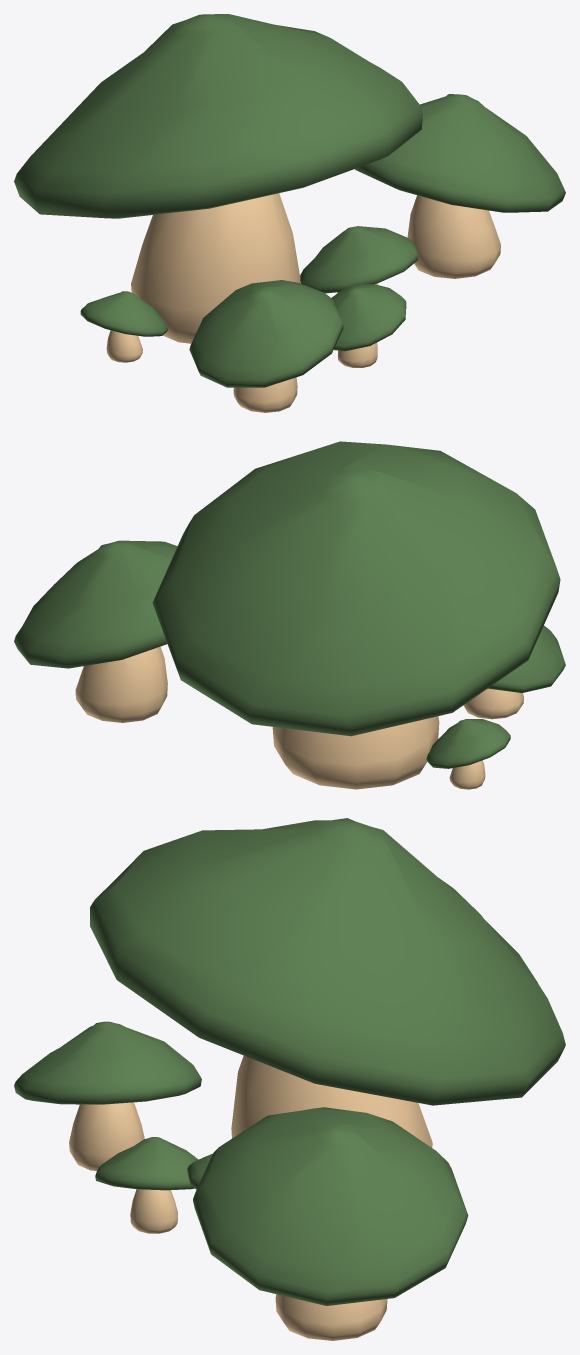
The model's file is Mushroom_Group.fbx.
3 views of the same model, one above another, from view 1: azimuth 30°, elevation 25°; view 2: azimuth 150°, elevation 25°; view 3: azimuth 270°, elevation 25° (orthographic). The views are drawn at different scales.
Visible parts, largest first — view 1: Mushroom_Group; view 2: Mushroom_Group; view 3: Mushroom_Group.
Part boxes in pixels (box(x1,y1,x2,y2)): Mushroom_Group: box(14, 14, 565, 412); Mushroom_Group: box(14, 441, 565, 789); Mushroom_Group: box(14, 818, 565, 1340).
Bounding box in the file's own units: 262 × 206 × 149.
